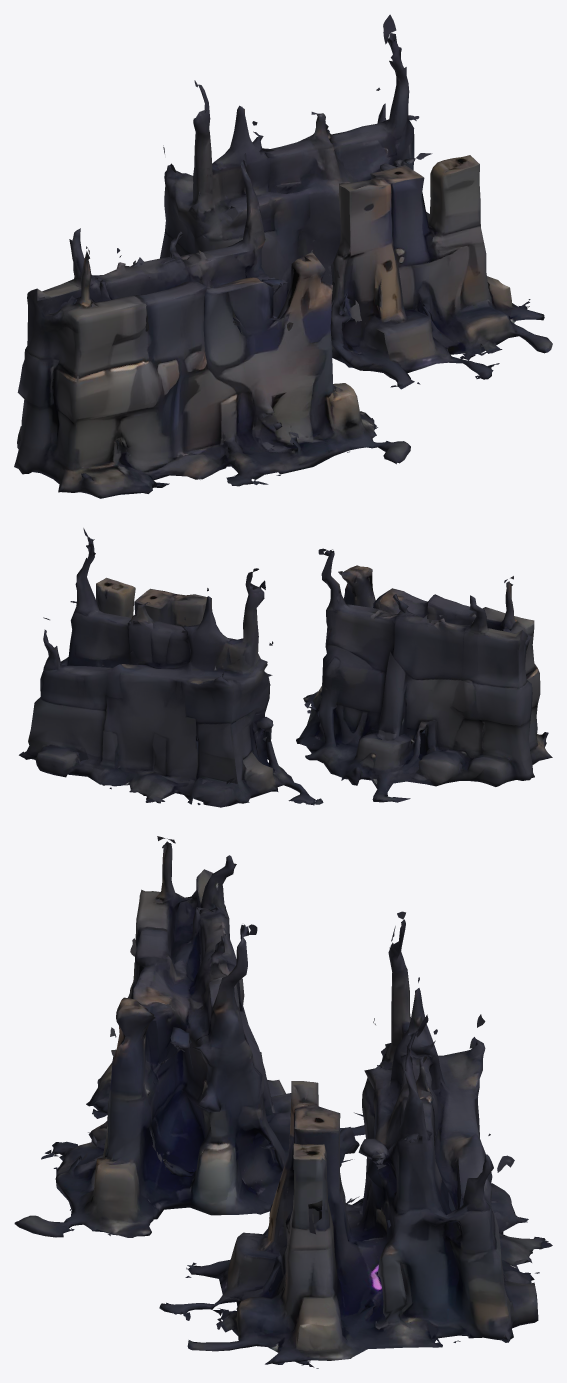
File: SM_Environment_RuinedWall_01.fbx
3 views of the same model, one above another, from view 1: azimuth 30°, elevation 25°; view 2: azimuth 150°, elevation 25°; view 3: azimuth 270°, elevation 25° (orthographic). The views are drawn at different scales.
Visible parts, largest first — view 1: SM_Environment_RuinedWall_01; view 2: SM_Environment_RuinedWall_01; view 3: SM_Environment_RuinedWall_01.
Boxes of the visible parts, x1,y1,x2,y2 form: SM_Environment_RuinedWall_01: (14,14,552,498); SM_Environment_RuinedWall_01: (19,528,552,807); SM_Environment_RuinedWall_01: (14,836,552,1368).
Size of the model in its own units: 0.9871 by 0.4616 by 0.7331.
Materials: 1 (1 with a texture image).
